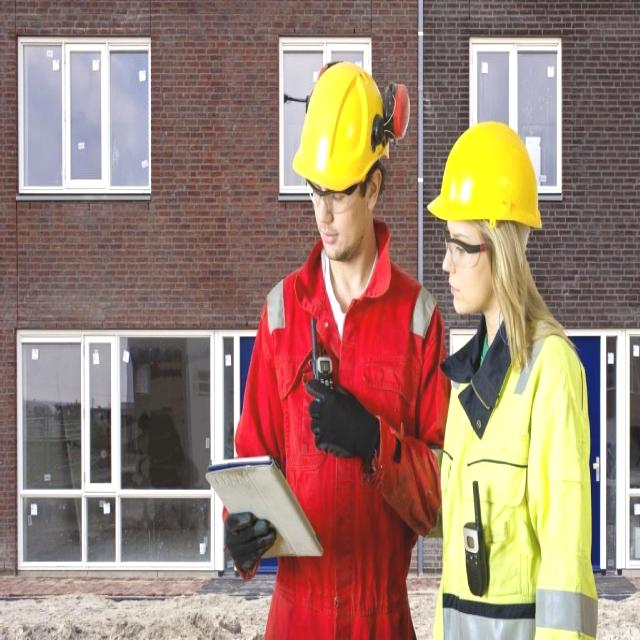face_nomask: (440, 214, 500, 321), (304, 171, 374, 262)
glasses: (440, 226, 486, 273), (304, 183, 357, 218)
hand_glove: (302, 368, 381, 472), (221, 506, 277, 585)
head_helmet: (286, 62, 389, 189), (424, 120, 544, 227)
person: (235, 61, 448, 639), (423, 128, 595, 639)
vest: (433, 310, 592, 635)
